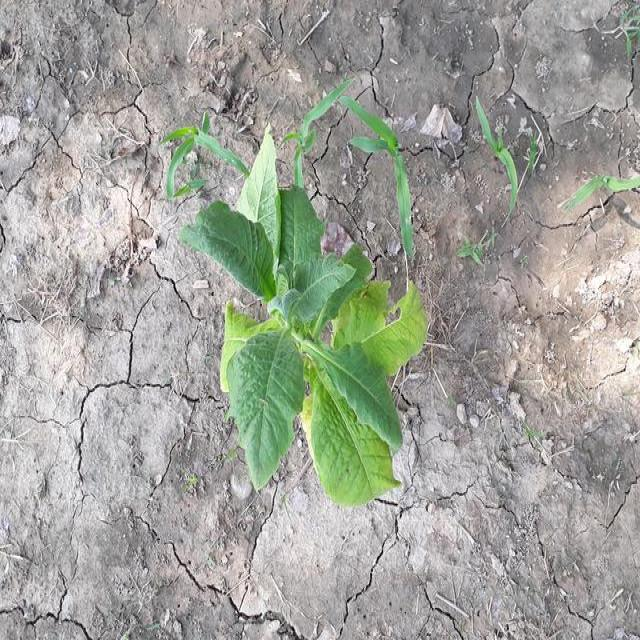crop: (188, 144, 439, 508)
